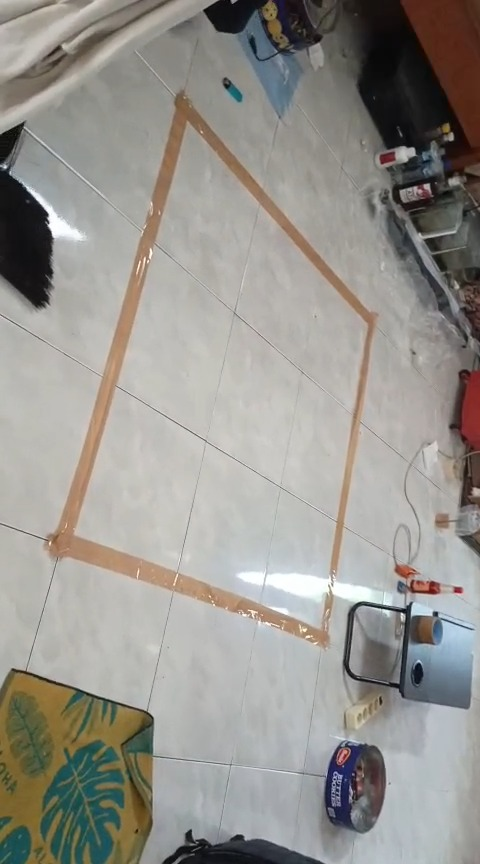floor marking: (48, 93, 376, 647)
